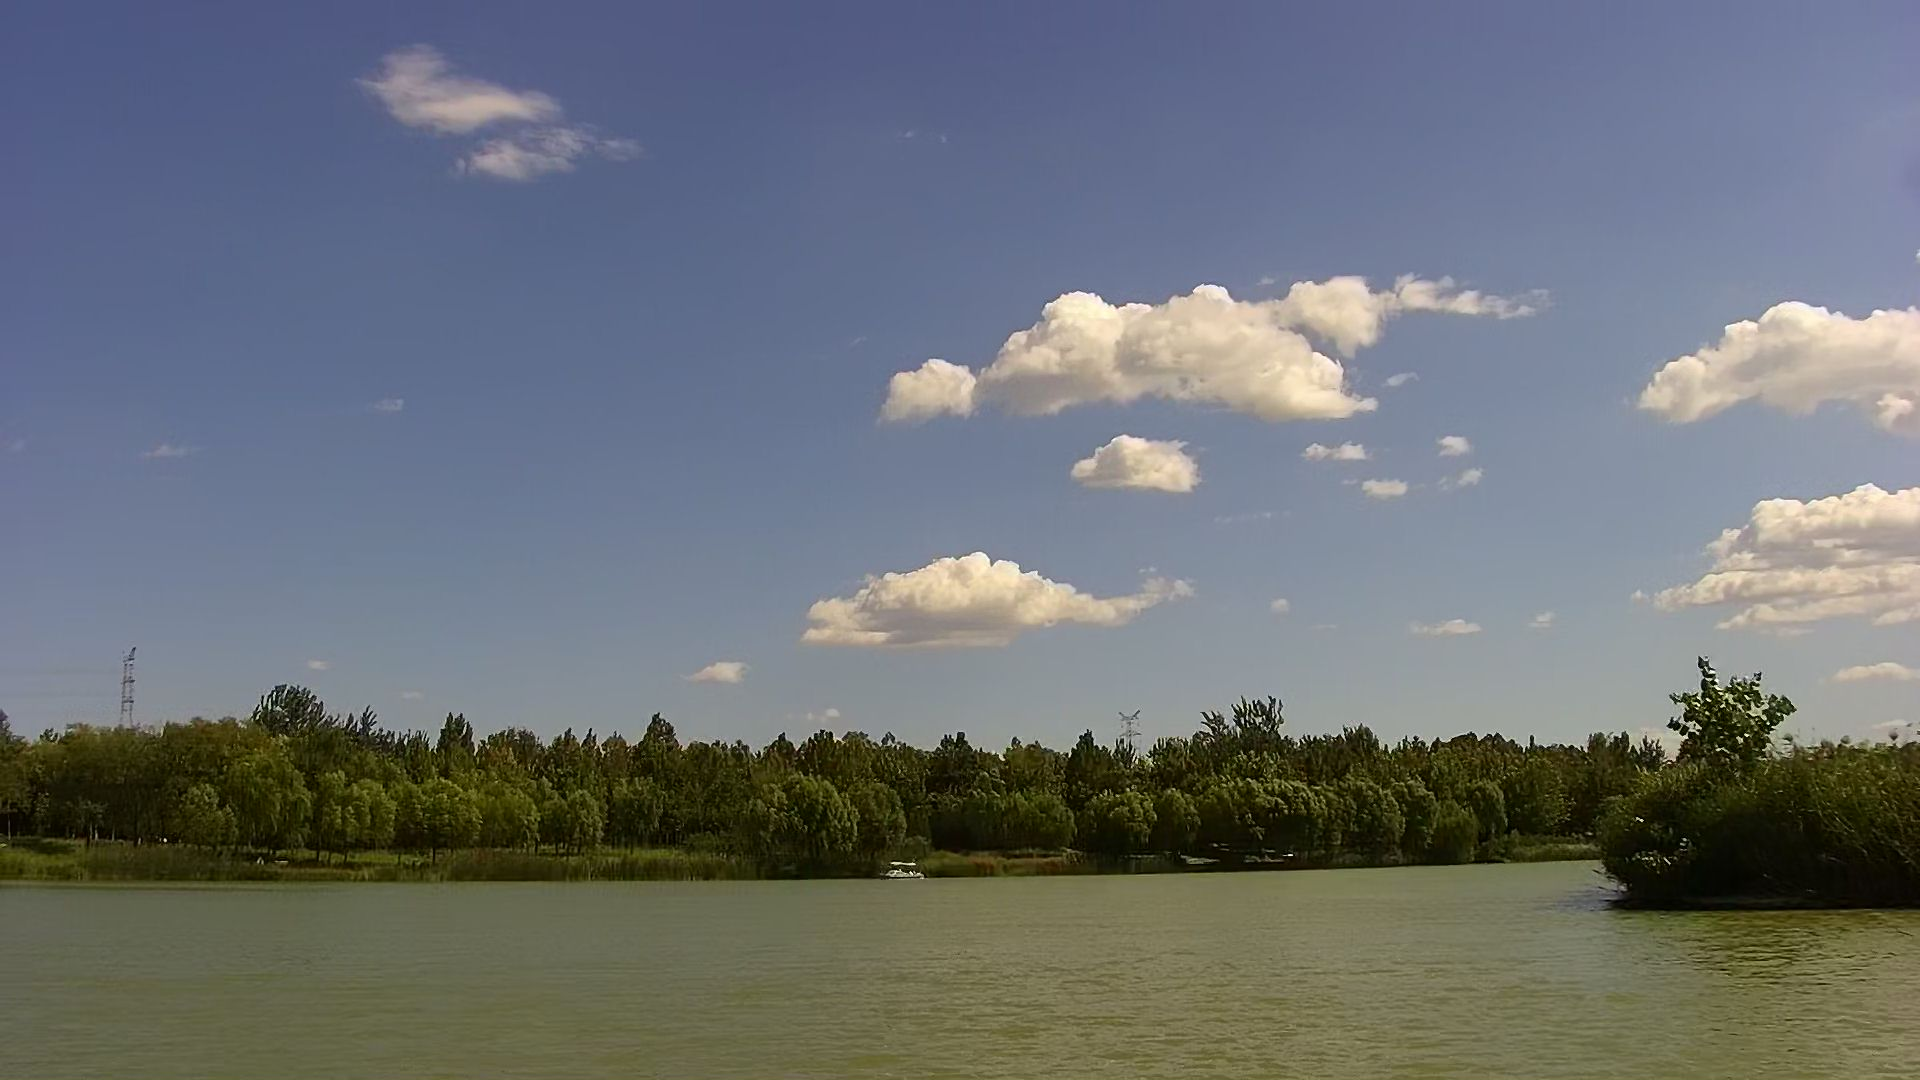boat: (881, 858, 928, 882)
